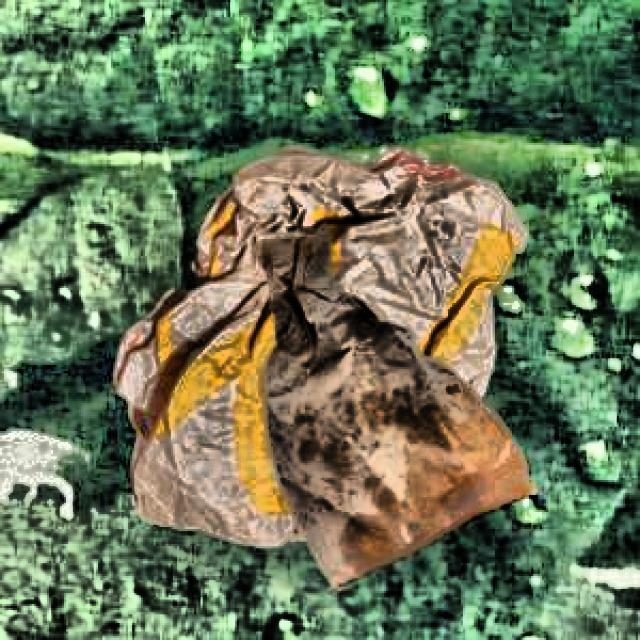Paper-bag: (107, 145, 535, 560), (238, 216, 553, 585)
